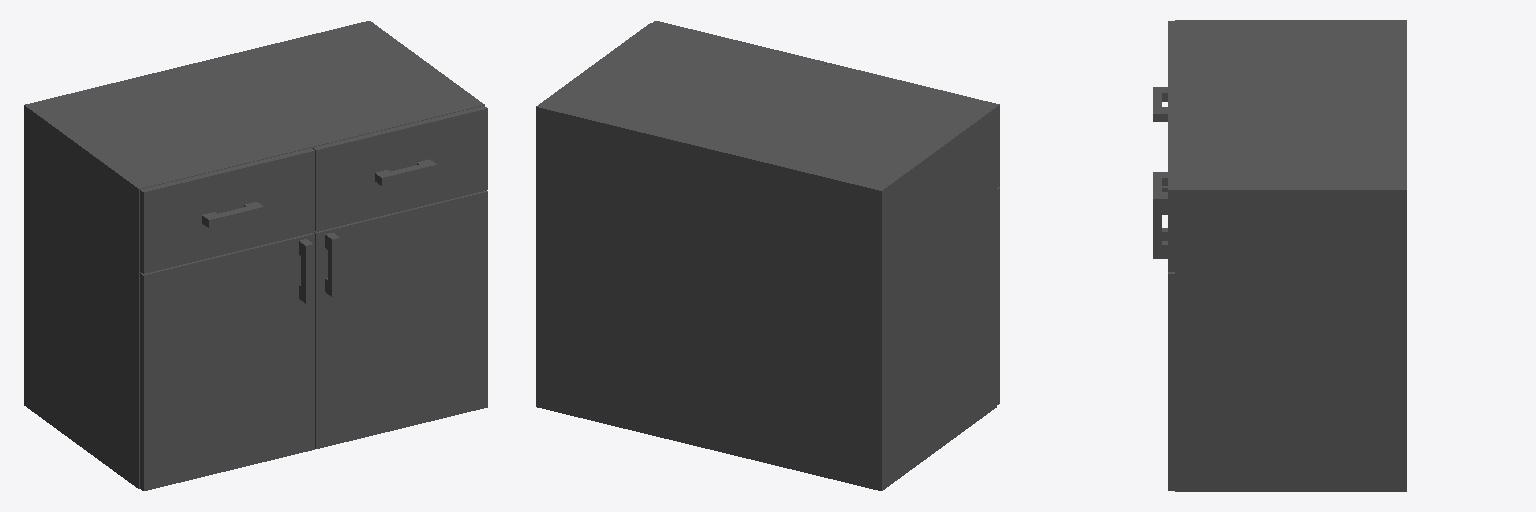
--- Render facts (derived) ---
The picture shows the robot from 3 angles, left to right: view 1: azimuth 30°, elevation 25°; view 2: azimuth 150°, elevation 25°; view 3: azimuth 270°, elevation 25°; orthographic projection.
Robot: Scene — 13 links, 12 joints (2 revolute, 2 prismatic, 8 fixed); root link world; default pose: every joint at zero.
Links seen in each view (by area): view 1: lower_left_cabinet_0.467_0.629_0.013_object_3_door_0_0, lower_right_cabinet_0.483_0.637_0.021_object_4_door_0_0, drawer_0.508_0.263_0.629_object_2_corpus, lower_left_cabinet_0.467_0.629_0.013_object_3_corpus, drawer_0.547_0.221_0.627_object_1_corpus, drawer_0.508_0.263_0.629_object_2_drawer_0_0, drawer_0.547_0.221_0.627_object_1_drawer_0_0; view 2: lower_left_cabinet_0.467_0.629_0.013_object_3_corpus, drawer_0.508_0.263_0.629_object_2_corpus, lower_right_cabinet_0.483_0.637_0.021_object_4_corpus, drawer_0.547_0.221_0.627_object_1_corpus, drawer_0.508_0.263_0.629_object_2_drawer_0_0, lower_left_cabinet_0.467_0.629_0.013_object_3_door_0_0; view 3: lower_right_cabinet_0.483_0.637_0.021_object_4_corpus, drawer_0.547_0.221_0.627_object_1_corpus, drawer_0.508_0.263_0.629_object_2_corpus, lower_right_cabinet_0.483_0.637_0.021_object_4_door_0_0, drawer_0.547_0.221_0.627_object_1_drawer_0_0, drawer_0.508_0.263_0.629_object_2_drawer_0_0.
Boxes of the visible links, x1,y1,x2,y2 form: lower_left_cabinet_0.467_0.629_0.013_object_3_door_0_0: [140, 233, 314, 490]; lower_right_cabinet_0.483_0.637_0.021_object_4_door_0_0: [314, 191, 487, 448]; drawer_0.508_0.263_0.629_object_2_corpus: [24, 63, 311, 271]; lower_left_cabinet_0.467_0.629_0.013_object_3_corpus: [24, 188, 140, 488]; drawer_0.547_0.221_0.627_object_1_corpus: [198, 21, 484, 148]; drawer_0.508_0.263_0.629_object_2_drawer_0_0: [140, 148, 314, 273]; drawer_0.547_0.221_0.627_object_1_drawer_0_0: [313, 106, 487, 231]; lower_left_cabinet_0.467_0.629_0.013_object_3_corpus: [709, 190, 996, 490]; drawer_0.508_0.263_0.629_object_2_corpus: [709, 65, 996, 273]; lower_right_cabinet_0.483_0.637_0.021_object_4_corpus: [536, 190, 708, 448]; drawer_0.547_0.221_0.627_object_1_corpus: [536, 23, 823, 231]; drawer_0.508_0.263_0.629_object_2_drawer_0_0: [826, 63, 999, 187]; lower_left_cabinet_0.467_0.629_0.013_object_3_door_0_0: [997, 187, 999, 404]; lower_right_cabinet_0.483_0.637_0.021_object_4_corpus: [1175, 273, 1406, 491]; drawer_0.547_0.221_0.627_object_1_corpus: [1175, 105, 1406, 272]; drawer_0.508_0.263_0.629_object_2_corpus: [1175, 20, 1406, 104]; lower_right_cabinet_0.483_0.637_0.021_object_4_door_0_0: [1153, 207, 1174, 490]; drawer_0.547_0.221_0.627_object_1_drawer_0_0: [1153, 106, 1174, 271]; drawer_0.508_0.263_0.629_object_2_drawer_0_0: [1153, 21, 1174, 121].
Size in the robot's own frame: 1.05 by 0.6664 by 0.8751 metres.
Geometry: primitives only (box / cylinder / sphere), no mesh files.

The robot description file, URDF, robot "Scene":
<?xml version='1.0' encoding='ASCII'?>
<robot name="Scene">
  <link name="drawer_0.508_0.263_0.629_object_2_corpus">
    <inertial>
      <origin xyz="0.0 0.0 0.0" rpy="0.0 -0.0 0.0"/>
      <mass value="0.019717234820461192"/>
      <inertia ixx="1.0" ixy="0.0" ixz="0.0" iyy="1.0" iyz="0.0" izz="1.0"/>
    </inertial>
    <visual name="drawer_0.508_0.263_0.629_object_2_back">
      <geometry>
        <box size="0.5272662835619217 0.02 0.2220240070010941"/>
      </geometry>
      <origin xyz="0.0 0.30420748274882914 0.11101200350054705" rpy="0.0 -0.0 0.0"/>
      <material name="drawer_0.508_0.263_0.629_object_2_back_main_color">
        <color rgba="0.4 0.4 0.4 1.0"/>
      </material>
    </visual>
    <visual name="drawer_0.508_0.263_0.629_object_2_left">
      <geometry>
        <box size="0.02 0.5884149654976583 0.2220240070010941"/>
      </geometry>
      <origin xyz="-0.25363314178096086 0.0 0.11101200350054705" rpy="0.0 -0.0 0.0"/>
      <material name="drawer_0.508_0.263_0.629_object_2_left_main_color">
        <color rgba="0.4 0.4 0.4 1.0"/>
      </material>
    </visual>
    <visual name="drawer_0.508_0.263_0.629_object_2_right">
      <geometry>
        <box size="0.02 0.5884149654976583 0.2220240070010941"/>
      </geometry>
      <origin xyz="0.25363314178096086 0.0 0.11101200350054705" rpy="0.0 -0.0 0.0"/>
      <material name="drawer_0.508_0.263_0.629_object_2_right_main_color">
        <color rgba="0.4 0.4 0.4 1.0"/>
      </material>
    </visual>
    <visual name="drawer_0.508_0.263_0.629_object_2_surface_0_0">
      <geometry>
        <box size="0.48726628356192175 0.5884149654976583 0.02"/>
      </geometry>
      <origin xyz="0.0 0.0 0.010000000000000018" rpy="0.0 -0.0 0.0"/>
      <material name="drawer_0.508_0.263_0.629_object_2_surface_0_0_main_color">
        <color rgba="0.4 0.4 0.4 1.0"/>
      </material>
    </visual>
    <visual name="drawer_0.508_0.263_0.629_object_2_top">
      <geometry>
        <box size="0.5272662835619217 0.6084149654976583 0.02"/>
      </geometry>
      <origin xyz="0.0 0.01 0.23202400700109407" rpy="0.0 -0.0 0.0"/>
      <material name="drawer_0.508_0.263_0.629_object_2_top_main_color">
        <color rgba="0.4 0.4 0.4 1.0"/>
      </material>
    </visual>
    <collision name="drawer_0.508_0.263_0.629_object_2_back">
      <geometry>
        <box size="0.5272662835619217 0.02 0.2220240070010941"/>
      </geometry>
      <origin xyz="0.0 0.30420748274882914 0.11101200350054705" rpy="0.0 -0.0 0.0"/>
    </collision>
    <collision name="drawer_0.508_0.263_0.629_object_2_left">
      <geometry>
        <box size="0.02 0.5884149654976583 0.2220240070010941"/>
      </geometry>
      <origin xyz="-0.25363314178096086 0.0 0.11101200350054705" rpy="0.0 -0.0 0.0"/>
    </collision>
    <collision name="drawer_0.508_0.263_0.629_object_2_right">
      <geometry>
        <box size="0.02 0.5884149654976583 0.2220240070010941"/>
      </geometry>
      <origin xyz="0.25363314178096086 0.0 0.11101200350054705" rpy="0.0 -0.0 0.0"/>
    </collision>
    <collision name="drawer_0.508_0.263_0.629_object_2_surface_0_0">
      <geometry>
        <box size="0.48726628356192175 0.5884149654976583 0.02"/>
      </geometry>
      <origin xyz="0.0 0.0 0.010000000000000018" rpy="0.0 -0.0 0.0"/>
    </collision>
    <collision name="drawer_0.508_0.263_0.629_object_2_top">
      <geometry>
        <box size="0.5272662835619217 0.6084149654976583 0.02"/>
      </geometry>
      <origin xyz="0.0 0.01 0.23202400700109407" rpy="0.0 -0.0 0.0"/>
    </collision>
  </link>
  <link name="drawer_0.508_0.263_0.629_object_2_drawer_0_0">
    <inertial>
      <origin xyz="0.0 0.0 0.0" rpy="0.0 -0.0 0.0"/>
      <mass value="0.09999999999999998"/>
      <inertia ixx="1.0" ixy="0.0" ixz="0.0" iyy="1.0" iyz="0.0" izz="1.0"/>
    </inertial>
    <visual name="drawer_0.508_0.263_0.629_object_2_drawer_0_0_board_0">
      <geometry>
        <box size="0.5232662835619217 0.02 0.23802400700109408"/>
      </geometry>
      <origin xyz="0.0 -0.01 0.0" rpy="0.0 -0.0 0.0"/>
      <material name="drawer_0.508_0.263_0.629_object_2_drawer_0_0_board_0_main_color">
        <color rgba="0.4 0.4 0.4 1.0"/>
      </material>
    </visual>
    <visual name="drawer_0.508_0.263_0.629_object_2_drawer_0_0_board_1">
      <geometry>
        <box size="0.46726628356192174 0.5225734689478925 0.005"/>
      </geometry>
      <origin xyz="0.0 0.26128673447394624 -0.09351200350054703" rpy="0.0 -0.0 0.0"/>
      <material name="drawer_0.508_0.263_0.629_object_2_drawer_0_0_board_1_main_color">
        <color rgba="0.4 0.4 0.4 1.0"/>
      </material>
    </visual>
    <visual name="drawer_0.508_0.263_0.629_object_2_drawer_0_0_board_2">
      <geometry>
        <box size="0.005 0.5225734689478925 0.19202400700109407"/>
      </geometry>
      <origin xyz="-0.23613314178096087 0.26128673447394624 0.0" rpy="0.0 -0.0 0.0"/>
      <material name="drawer_0.508_0.263_0.629_object_2_drawer_0_0_board_2_main_color">
        <color rgba="0.4 0.4 0.4 1.0"/>
      </material>
    </visual>
    <visual name="drawer_0.508_0.263_0.629_object_2_drawer_0_0_board_3">
      <geometry>
        <box size="0.005 0.5225734689478925 0.19202400700109407"/>
      </geometry>
      <origin xyz="0.23613314178096087 0.26128673447394624 0.0" rpy="0.0 -0.0 0.0"/>
      <material name="drawer_0.508_0.263_0.629_object_2_drawer_0_0_board_3_main_color">
        <color rgba="0.4 0.4 0.4 1.0"/>
      </material>
    </visual>
    <visual name="drawer_0.508_0.263_0.629_object_2_drawer_0_0_board_4">
      <geometry>
        <box size="0.47726628356192174 0.005 0.19202400700109407"/>
      </geometry>
      <origin xyz="0.0 0.5250734689478925 0.0" rpy="0.0 -0.0 0.0"/>
      <material name="drawer_0.508_0.263_0.629_object_2_drawer_0_0_board_4_main_color">
        <color rgba="0.4 0.4 0.4 1.0"/>
      </material>
    </visual>
    <visual name="drawer_0.508_0.263_0.629_object_2_drawer_0_0_handle_part_0">
      <geometry>
        <box size="0.024 0.1682 0.024"/>
      </geometry>
      <origin xyz="-9.748438587302075e-35 -0.046 1.5920408388915591e-18" rpy="3.141592653589793 6.123233995736766e-17 1.5707963267948966"/>
      <material name="drawer_0.508_0.263_0.629_object_2_drawer_0_0_handle_part_0_main_color">
        <color rgba="0.4 0.4 0.4 1.0"/>
      </material>
    </visual>
    <visual name="drawer_0.508_0.263_0.629_object_2_drawer_0_0_handle_part_1">
      <geometry>
        <box size="0.013999999999999999 0.04 0.024"/>
      </geometry>
      <origin xyz="-0.06409999999999999 -0.027 -7.421359602832959e-18" rpy="3.141592653589793 6.123233995736766e-17 1.5707963267948966"/>
      <material name="drawer_0.508_0.263_0.629_object_2_drawer_0_0_handle_part_1_main_color">
        <color rgba="0.4 0.4 0.4 1.0"/>
      </material>
    </visual>
    <visual name="drawer_0.508_0.263_0.629_object_2_drawer_0_0_handle_part_2">
      <geometry>
        <box size="0.013999999999999999 0.04 0.024"/>
      </geometry>
      <origin xyz="0.06409999999999999 -0.027 8.278612362236106e-18" rpy="3.141592653589793 6.123233995736766e-17 1.5707963267948966"/>
      <material name="drawer_0.508_0.263_0.629_object_2_drawer_0_0_handle_part_2_main_color">
        <color rgba="0.4 0.4 0.4 1.0"/>
      </material>
    </visual>
    <collision name="drawer_0.508_0.263_0.629_object_2_drawer_0_0_board_0">
      <geometry>
        <box size="0.5232662835619217 0.02 0.23802400700109408"/>
      </geometry>
      <origin xyz="0.0 -0.01 0.0" rpy="0.0 -0.0 0.0"/>
    </collision>
    <collision name="drawer_0.508_0.263_0.629_object_2_drawer_0_0_board_1">
      <geometry>
        <box size="0.46726628356192174 0.5225734689478925 0.005"/>
      </geometry>
      <origin xyz="0.0 0.26128673447394624 -0.09351200350054703" rpy="0.0 -0.0 0.0"/>
    </collision>
    <collision name="drawer_0.508_0.263_0.629_object_2_drawer_0_0_board_2">
      <geometry>
        <box size="0.005 0.5225734689478925 0.19202400700109407"/>
      </geometry>
      <origin xyz="-0.23613314178096087 0.26128673447394624 0.0" rpy="0.0 -0.0 0.0"/>
    </collision>
    <collision name="drawer_0.508_0.263_0.629_object_2_drawer_0_0_board_3">
      <geometry>
        <box size="0.005 0.5225734689478925 0.19202400700109407"/>
      </geometry>
      <origin xyz="0.23613314178096087 0.26128673447394624 0.0" rpy="0.0 -0.0 0.0"/>
    </collision>
    <collision name="drawer_0.508_0.263_0.629_object_2_drawer_0_0_board_4">
      <geometry>
        <box size="0.47726628356192174 0.005 0.19202400700109407"/>
      </geometry>
      <origin xyz="0.0 0.5250734689478925 0.0" rpy="0.0 -0.0 0.0"/>
    </collision>
    <collision name="drawer_0.508_0.263_0.629_object_2_drawer_0_0_handle_part_0">
      <geometry>
        <box size="0.024 0.1682 0.024"/>
      </geometry>
      <origin xyz="-9.748438587302075e-35 -0.046 1.5920408388915591e-18" rpy="3.141592653589793 6.123233995736766e-17 1.5707963267948966"/>
    </collision>
    <collision name="drawer_0.508_0.263_0.629_object_2_drawer_0_0_handle_part_1">
      <geometry>
        <box size="0.013999999999999999 0.04 0.024"/>
      </geometry>
      <origin xyz="-0.06409999999999999 -0.027 -7.421359602832959e-18" rpy="3.141592653589793 6.123233995736766e-17 1.5707963267948966"/>
    </collision>
    <collision name="drawer_0.508_0.263_0.629_object_2_drawer_0_0_handle_part_2">
      <geometry>
        <box size="0.013999999999999999 0.04 0.024"/>
      </geometry>
      <origin xyz="0.06409999999999999 -0.027 8.278612362236106e-18" rpy="3.141592653589793 6.123233995736766e-17 1.5707963267948966"/>
    </collision>
  </link>
  <link name="drawer_0.547_0.221_0.627_object_1_corpus">
    <inertial>
      <origin xyz="0.0 0.0 0.0" rpy="0.0 -0.0 0.0"/>
      <mass value="0.019717234820461192"/>
      <inertia ixx="1.0" ixy="0.0" ixz="0.0" iyy="1.0" iyz="0.0" izz="1.0"/>
    </inertial>
    <visual name="drawer_0.547_0.221_0.627_object_1_back">
      <geometry>
        <box size="0.5272662835619217 0.02 0.2220240070010941"/>
      </geometry>
      <origin xyz="0.0 0.30420748274882914 0.11101200350054705" rpy="0.0 -0.0 0.0"/>
      <material name="drawer_0.547_0.221_0.627_object_1_back_main_color">
        <color rgba="0.4 0.4 0.4 1.0"/>
      </material>
    </visual>
    <visual name="drawer_0.547_0.221_0.627_object_1_left">
      <geometry>
        <box size="0.02 0.5884149654976583 0.2220240070010941"/>
      </geometry>
      <origin xyz="-0.25363314178096086 0.0 0.11101200350054705" rpy="0.0 -0.0 0.0"/>
      <material name="drawer_0.547_0.221_0.627_object_1_left_main_color">
        <color rgba="0.4 0.4 0.4 1.0"/>
      </material>
    </visual>
    <visual name="drawer_0.547_0.221_0.627_object_1_right">
      <geometry>
        <box size="0.02 0.5884149654976583 0.2220240070010941"/>
      </geometry>
      <origin xyz="0.25363314178096086 0.0 0.11101200350054705" rpy="0.0 -0.0 0.0"/>
      <material name="drawer_0.547_0.221_0.627_object_1_right_main_color">
        <color rgba="0.4 0.4 0.4 1.0"/>
      </material>
    </visual>
    <visual name="drawer_0.547_0.221_0.627_object_1_surface_0_0">
      <geometry>
        <box size="0.48726628356192175 0.5884149654976583 0.02"/>
      </geometry>
      <origin xyz="0.0 0.0 0.010000000000000018" rpy="0.0 -0.0 0.0"/>
      <material name="drawer_0.547_0.221_0.627_object_1_surface_0_0_main_color">
        <color rgba="0.4 0.4 0.4 1.0"/>
      </material>
    </visual>
    <visual name="drawer_0.547_0.221_0.627_object_1_top">
      <geometry>
        <box size="0.5272662835619217 0.6084149654976583 0.02"/>
      </geometry>
      <origin xyz="0.0 0.01 0.23202400700109407" rpy="0.0 -0.0 0.0"/>
      <material name="drawer_0.547_0.221_0.627_object_1_top_main_color">
        <color rgba="0.4 0.4 0.4 1.0"/>
      </material>
    </visual>
    <collision name="drawer_0.547_0.221_0.627_object_1_back">
      <geometry>
        <box size="0.5272662835619217 0.02 0.2220240070010941"/>
      </geometry>
      <origin xyz="0.0 0.30420748274882914 0.11101200350054705" rpy="0.0 -0.0 0.0"/>
    </collision>
    <collision name="drawer_0.547_0.221_0.627_object_1_left">
      <geometry>
        <box size="0.02 0.5884149654976583 0.2220240070010941"/>
      </geometry>
      <origin xyz="-0.25363314178096086 0.0 0.11101200350054705" rpy="0.0 -0.0 0.0"/>
    </collision>
    <collision name="drawer_0.547_0.221_0.627_object_1_right">
      <geometry>
        <box size="0.02 0.5884149654976583 0.2220240070010941"/>
      </geometry>
      <origin xyz="0.25363314178096086 0.0 0.11101200350054705" rpy="0.0 -0.0 0.0"/>
    </collision>
    <collision name="drawer_0.547_0.221_0.627_object_1_surface_0_0">
      <geometry>
        <box size="0.48726628356192175 0.5884149654976583 0.02"/>
      </geometry>
      <origin xyz="0.0 0.0 0.010000000000000018" rpy="0.0 -0.0 0.0"/>
    </collision>
    <collision name="drawer_0.547_0.221_0.627_object_1_top">
      <geometry>
        <box size="0.5272662835619217 0.6084149654976583 0.02"/>
      </geometry>
      <origin xyz="0.0 0.01 0.23202400700109407" rpy="0.0 -0.0 0.0"/>
    </collision>
  </link>
  <link name="drawer_0.547_0.221_0.627_object_1_drawer_0_0">
    <inertial>
      <origin xyz="0.0 0.0 0.0" rpy="0.0 -0.0 0.0"/>
      <mass value="0.09999999999999998"/>
      <inertia ixx="1.0" ixy="0.0" ixz="0.0" iyy="1.0" iyz="0.0" izz="1.0"/>
    </inertial>
    <visual name="drawer_0.547_0.221_0.627_object_1_drawer_0_0_board_0">
      <geometry>
        <box size="0.5232662835619217 0.02 0.23802400700109408"/>
      </geometry>
      <origin xyz="0.0 -0.01 0.0" rpy="0.0 -0.0 0.0"/>
      <material name="drawer_0.547_0.221_0.627_object_1_drawer_0_0_board_0_main_color">
        <color rgba="0.4 0.4 0.4 1.0"/>
      </material>
    </visual>
    <visual name="drawer_0.547_0.221_0.627_object_1_drawer_0_0_board_1">
      <geometry>
        <box size="0.46726628356192174 0.5225734689478925 0.005"/>
      </geometry>
      <origin xyz="0.0 0.26128673447394624 -0.09351200350054703" rpy="0.0 -0.0 0.0"/>
      <material name="drawer_0.547_0.221_0.627_object_1_drawer_0_0_board_1_main_color">
        <color rgba="0.4 0.4 0.4 1.0"/>
      </material>
    </visual>
    <visual name="drawer_0.547_0.221_0.627_object_1_drawer_0_0_board_2">
      <geometry>
        <box size="0.005 0.5225734689478925 0.19202400700109407"/>
      </geometry>
      <origin xyz="-0.23613314178096087 0.26128673447394624 0.0" rpy="0.0 -0.0 0.0"/>
      <material name="drawer_0.547_0.221_0.627_object_1_drawer_0_0_board_2_main_color">
        <color rgba="0.4 0.4 0.4 1.0"/>
      </material>
    </visual>
    <visual name="drawer_0.547_0.221_0.627_object_1_drawer_0_0_board_3">
      <geometry>
        <box size="0.005 0.5225734689478925 0.19202400700109407"/>
      </geometry>
      <origin xyz="0.23613314178096087 0.26128673447394624 0.0" rpy="0.0 -0.0 0.0"/>
      <material name="drawer_0.547_0.221_0.627_object_1_drawer_0_0_board_3_main_color">
        <color rgba="0.4 0.4 0.4 1.0"/>
      </material>
    </visual>
    <visual name="drawer_0.547_0.221_0.627_object_1_drawer_0_0_board_4">
      <geometry>
        <box size="0.47726628356192174 0.005 0.19202400700109407"/>
      </geometry>
      <origin xyz="0.0 0.5250734689478925 0.0" rpy="0.0 -0.0 0.0"/>
      <material name="drawer_0.547_0.221_0.627_object_1_drawer_0_0_board_4_main_color">
        <color rgba="0.4 0.4 0.4 1.0"/>
      </material>
    </visual>
    <visual name="drawer_0.547_0.221_0.627_object_1_drawer_0_0_handle_part_0">
      <geometry>
        <box size="0.024 0.1682 0.024"/>
      </geometry>
      <origin xyz="-9.748438587302075e-35 -0.046 1.5920408388915591e-18" rpy="3.141592653589793 6.123233995736766e-17 1.5707963267948966"/>
      <material name="drawer_0.547_0.221_0.627_object_1_drawer_0_0_handle_part_0_main_color">
        <color rgba="0.4 0.4 0.4 1.0"/>
      </material>
    </visual>
    <visual name="drawer_0.547_0.221_0.627_object_1_drawer_0_0_handle_part_1">
      <geometry>
        <box size="0.013999999999999999 0.04 0.024"/>
      </geometry>
      <origin xyz="-0.06409999999999999 -0.027 -7.421359602832959e-18" rpy="3.141592653589793 6.123233995736766e-17 1.5707963267948966"/>
      <material name="drawer_0.547_0.221_0.627_object_1_drawer_0_0_handle_part_1_main_color">
        <color rgba="0.4 0.4 0.4 1.0"/>
      </material>
    </visual>
    <visual name="drawer_0.547_0.221_0.627_object_1_drawer_0_0_handle_part_2">
      <geometry>
        <box size="0.013999999999999999 0.04 0.024"/>
      </geometry>
      <origin xyz="0.06409999999999999 -0.027 8.278612362236106e-18" rpy="3.141592653589793 6.123233995736766e-17 1.5707963267948966"/>
      <material name="drawer_0.547_0.221_0.627_object_1_drawer_0_0_handle_part_2_main_color">
        <color rgba="0.4 0.4 0.4 1.0"/>
      </material>
    </visual>
    <collision name="drawer_0.547_0.221_0.627_object_1_drawer_0_0_board_0">
      <geometry>
        <box size="0.5232662835619217 0.02 0.23802400700109408"/>
      </geometry>
      <origin xyz="0.0 -0.01 0.0" rpy="0.0 -0.0 0.0"/>
    </collision>
    <collision name="drawer_0.547_0.221_0.627_object_1_drawer_0_0_board_1">
      <geometry>
        <box size="0.46726628356192174 0.5225734689478925 0.005"/>
      </geometry>
      <origin xyz="0.0 0.26128673447394624 -0.09351200350054703" rpy="0.0 -0.0 0.0"/>
    </collision>
    <collision name="drawer_0.547_0.221_0.627_object_1_drawer_0_0_board_2">
      <geometry>
        <box size="0.005 0.5225734689478925 0.19202400700109407"/>
      </geometry>
      <origin xyz="-0.23613314178096087 0.26128673447394624 0.0" rpy="0.0 -0.0 0.0"/>
    </collision>
    <collision name="drawer_0.547_0.221_0.627_object_1_drawer_0_0_board_3">
      <geometry>
        <box size="0.005 0.5225734689478925 0.19202400700109407"/>
      </geometry>
      <origin xyz="0.23613314178096087 0.26128673447394624 0.0" rpy="0.0 -0.0 0.0"/>
    </collision>
    <collision name="drawer_0.547_0.221_0.627_object_1_drawer_0_0_board_4">
      <geometry>
        <box size="0.47726628356192174 0.005 0.19202400700109407"/>
      </geometry>
      <origin xyz="0.0 0.5250734689478925 0.0" rpy="0.0 -0.0 0.0"/>
    </collision>
    <collision name="drawer_0.547_0.221_0.627_object_1_drawer_0_0_handle_part_0">
      <geometry>
        <box size="0.024 0.1682 0.024"/>
      </geometry>
      <origin xyz="-9.748438587302075e-35 -0.046 1.5920408388915591e-18" rpy="3.141592653589793 6.123233995736766e-17 1.5707963267948966"/>
    </collision>
    <collision name="drawer_0.547_0.221_0.627_object_1_drawer_0_0_handle_part_1">
      <geometry>
        <box size="0.013999999999999999 0.04 0.024"/>
      </geometry>
      <origin xyz="-0.06409999999999999 -0.027 -7.421359602832959e-18" rpy="3.141592653589793 6.123233995736766e-17 1.5707963267948966"/>
    </collision>
    <collision name="drawer_0.547_0.221_0.627_object_1_drawer_0_0_handle_part_2">
      <geometry>
        <box size="0.013999999999999999 0.04 0.024"/>
      </geometry>
      <origin xyz="0.06409999999999999 -0.027 8.278612362236106e-18" rpy="3.141592653589793 6.123233995736766e-17 1.5707963267948966"/>
    </collision>
  </link>
  <link name="lower_left_cabinet_0.467_0.629_0.013_object_3_corpus">
    <inertial>
      <origin xyz="0.0 0.0 0.0" rpy="0.0 -0.0 0.0"/>
      <mass value="0.03591369357874641"/>
      <inertia ixx="1.0" ixy="0.0" ixz="0.0" iyy="1.0" iyz="0.0" izz="1.0"/>
    </inertial>
    <visual name="lower_left_cabinet_0.467_0.629_0.013_object_3_back">
      <geometry>
        <box size="0.5272662835619217 0.02 0.6131202053881628"/>
      </geometry>
      <origin xyz="0.0 0.30420748274882914 0.3065601026940814" rpy="0.0 -0.0 0.0"/>
      <material name="lower_left_cabinet_0.467_0.629_0.013_object_3_back_main_color">
        <color rgba="0.4 0.4 0.4 1.0"/>
      </material>
    </visual>
    <visual name="lower_left_cabinet_0.467_0.629_0.013_object_3_left">
      <geometry>
        <box size="0.02 0.5884149654976583 0.6131202053881628"/>
      </geometry>
      <origin xyz="-0.25363314178096086 0.0 0.3065601026940814" rpy="0.0 -0.0 0.0"/>
      <material name="lower_left_cabinet_0.467_0.629_0.013_object_3_left_main_color">
        <color rgba="0.4 0.4 0.4 1.0"/>
      </material>
    </visual>
    <visual name="lower_left_cabinet_0.467_0.629_0.013_object_3_right">
      <geometry>
        <box size="0.02 0.5884149654976583 0.6131202053881628"/>
      </geometry>
      <origin xyz="0.25363314178096086 0.0 0.3065601026940814" rpy="0.0 -0.0 0.0"/>
      <material name="lower_left_cabinet_0.467_0.629_0.013_object_3_right_main_color">
        <color rgba="0.4 0.4 0.4 1.0"/>
      </material>
    </visual>
    <visual name="lower_left_cabinet_0.467_0.629_0.013_object_3_shelf_0_0_0">
      <geometry>
        <box size="0.48726628356192175 0.5884149654976583 0.01"/>
      </geometry>
      <origin xyz="0.0 0.0 0.3165601026940814" rpy="0.0 -0.0 0.0"/>
      <material name="lower_left_cabinet_0.467_0.629_0.013_object_3_shelf_0_0_0_main_color">
        <color rgba="0.4 0.4 0.4 1.0"/>
      </material>
    </visual>
    <visual name="lower_left_cabinet_0.467_0.629_0.013_object_3_surface_0_0">
      <geometry>
        <box size="0.48726628356192175 0.5884149654976583 0.02"/>
      </geometry>
      <origin xyz="0.0 0.0 0.010000000000000018" rpy="0.0 -0.0 0.0"/>
      <material name="lower_left_cabinet_0.467_0.629_0.013_object_3_surface_0_0_main_color">
        <color rgba="0.4 0.4 0.4 1.0"/>
      </material>
    </visual>
    <visual name="lower_left_cabinet_0.467_0.629_0.013_object_3_top">
      <geometry>
        <box size="0.5272662835619217 0.6084149654976583 0.02"/>
      </geometry>
      <origin xyz="0.0 0.01 0.6231202053881628" rpy="0.0 -0.0 0.0"/>
      <material name="lower_left_cabinet_0.467_0.629_0.013_object_3_top_main_color">
        <color rgba="0.4 0.4 0.4 1.0"/>
      </material>
    </visual>
    <collision name="lower_left_cabinet_0.467_0.629_0.013_object_3_back">
      <geometry>
        <box size="0.5272662835619217 0.02 0.6131202053881628"/>
      </geometry>
      <origin xyz="0.0 0.30420748274882914 0.3065601026940814" rpy="0.0 -0.0 0.0"/>
    </collision>
    <collision name="lower_left_cabinet_0.467_0.629_0.013_object_3_left">
      <geometry>
        <box size="0.02 0.5884149654976583 0.6131202053881628"/>
      </geometry>
      <origin xyz="-0.25363314178096086 0.0 0.3065601026940814" rpy="0.0 -0.0 0.0"/>
    </collision>
    <collision name="lower_left_cabinet_0.467_0.629_0.013_object_3_right">
      <geometry>
        <box size="0.02 0.5884149654976583 0.6131202053881628"/>
      </geometry>
      <origin xyz="0.25363314178096086 0.0 0.3065601026940814" rpy="0.0 -0.0 0.0"/>
    </collision>
    <collision name="lower_left_cabinet_0.467_0.629_0.013_object_3_shelf_0_0_0">
      <geometry>
        <box size="0.48726628356192175 0.5884149654976583 0.01"/>
      </geometry>
      <origin xyz="0.0 0.0 0.3165601026940814" rpy="0.0 -0.0 0.0"/>
    </collision>
    <collision name="lower_left_cabinet_0.467_0.629_0.013_object_3_surface_0_0">
      <geometry>
        <box size="0.48726628356192175 0.5884149654976583 0.02"/>
      </geometry>
      <origin xyz="0.0 0.0 0.010000000000000018" rpy="0.0 -0.0 0.0"/>
    </collision>
    <collision name="lower_left_cabinet_0.467_0.629_0.013_object_3_top">
      <geometry>
        <box size="0.5272662835619217 0.6084149654976583 0.02"/>
      </geometry>
      <origin xyz="0.0 0.01 0.6231202053881628" rpy="0.0 -0.0 0.0"/>
    </collision>
  </link>
  <link name="lower_left_cabinet_0.467_0.629_0.013_object_3_door_0_0">
    <inertial>
      <origin xyz="0.0 0.0 0.0" rpy="0.0 -0.0 0.0"/>
      <mass value="0.1"/>
      <inertia ixx="1.0" ixy="0.0" ixz="0.0" iyy="1.0" iyz="0.0" izz="1.0"/>
    </inertial>
    <visual name="lower_left_cabinet_0.467_0.629_0.013_object_3_door_0_0_door">
      <geometry>
        <box size="0.5232662835619217 0.02 0.6291202053881628"/>
      </geometry>
      <origin xyz="0.26163314178096087 0.01 0.0" rpy="0.0 -0.0 0.0"/>
      <material name="lower_left_cabinet_0.467_0.629_0.013_object_3_door_0_0_door_main_color">
        <color rgba="0.4 0.4 0.4 1.0"/>
      </material>
    </visual>
    <visual name="lower_left_cabinet_0.467_0.629_0.013_object_3_door_0_0_handle_part_0">
      <geometry>
        <box size="0.024 0.1682 0.024"/>
      </geometry>
      <origin xyz="0.48490296938382565 -0.026 0.22159207188585697" rpy="1.5707963267948966 -0.0 1.5707963267948966"/>
      <material name="lower_left_cabinet_0.467_0.629_0.013_object_3_door_0_0_handle_part_0_main_color">
        <color rgba="0.4 0.4 0.4 1.0"/>
      </material>
    </visual>
    <visual name="lower_left_cabinet_0.467_0.629_0.013_object_3_door_0_0_handle_part_1">
      <geometry>
        <box size="0.013999999999999999 0.04 0.024"/>
      </geometry>
      <origin xyz="0.48490296938382565 -0.006999999999999999 0.15749207188585698" rpy="1.5707963267948966 -0.0 1.5707963267948966"/>
      <material name="lower_left_cabinet_0.467_0.629_0.013_object_3_door_0_0_handle_part_1_main_color">
        <color rgba="0.4 0.4 0.4 1.0"/>
      </material>
    </visual>
    <visual name="lower_left_cabinet_0.467_0.629_0.013_object_3_door_0_0_handle_part_2">
      <geometry>
        <box size="0.013999999999999999 0.04 0.024"/>
      </geometry>
      <origin xyz="0.48490296938382565 -0.006999999999999999 0.285692071885857" rpy="1.5707963267948966 -0.0 1.5707963267948966"/>
      <material name="lower_left_cabinet_0.467_0.629_0.013_object_3_door_0_0_handle_part_2_main_color">
        <color rgba="0.4 0.4 0.4 1.0"/>
      </material>
    </visual>
    <collision name="lower_left_cabinet_0.467_0.629_0.013_object_3_door_0_0_door">
      <geometry>
        <box size="0.5232662835619217 0.02 0.6291202053881628"/>
      </geometry>
      <origin xyz="0.26163314178096087 0.01 0.0" rpy="0.0 -0.0 0.0"/>
    </collision>
    <collision name="lower_left_cabinet_0.467_0.629_0.013_object_3_door_0_0_handle_part_0">
      <geometry>
        <box size="0.024 0.1682 0.024"/>
      </geometry>
      <origin xyz="0.48490296938382565 -0.026 0.22159207188585697" rpy="1.5707963267948966 -0.0 1.5707963267948966"/>
    </collision>
    <collision name="lower_left_cabinet_0.467_0.629_0.013_object_3_door_0_0_handle_part_1">
      <geometry>
        <box size="0.013999999999999999 0.04 0.024"/>
      </geometry>
      <origin xyz="0.48490296938382565 -0.006999999999999999 0.15749207188585698" rpy="1.5707963267948966 -0.0 1.5707963267948966"/>
    </collision>
    <collision name="lower_left_cabinet_0.467_0.629_0.013_object_3_door_0_0_handle_part_2">
      <geometry>
        <box size="0.013999999999999999 0.04 0.024"/>
      </geometry>
      <origin xyz="0.48490296938382565 -0.006999999999999999 0.285692071885857" rpy="1.5707963267948966 -0.0 1.5707963267948966"/>
    </collision>
  </link>
  <link name="lower_right_cabinet_0.483_0.637_0.021_object_4_corpus">
    <inertial>
      <origin xyz="0.0 0.0 0.0" rpy="0.0 -0.0 0.0"/>
      <mass value="0.03591369357874641"/>
      <inertia ixx="1.0" ixy="0.0" ixz="0.0" iyy="1.0" iyz="0.0" izz="1.0"/>
    </inertial>
    <visual name="lower_right_cabinet_0.483_0.637_0.021_object_4_back">
      <geometry>
        <box size="0.5272662835619217 0.02 0.6131202053881628"/>
      </geometry>
      <origin xyz="0.0 0.30420748274882914 0.3065601026940814" rpy="0.0 -0.0 0.0"/>
      <material name="lower_right_cabinet_0.483_0.637_0.021_object_4_back_main_color">
        <color rgba="0.4 0.4 0.4 1.0"/>
      </material>
    </visual>
    <visual name="lower_right_cabinet_0.483_0.637_0.021_object_4_left">
      <geometry>
        <box size="0.02 0.5884149654976583 0.6131202053881628"/>
      </geometry>
      <origin xyz="-0.25363314178096086 0.0 0.3065601026940814" rpy="0.0 -0.0 0.0"/>
      <material name="lower_right_cabinet_0.483_0.637_0.021_object_4_left_main_color">
        <color rgba="0.4 0.4 0.4 1.0"/>
      </material>
    </visual>
    <visual name="lower_right_cabinet_0.483_0.637_0.021_object_4_right">
      <geometry>
        <box size="0.02 0.5884149654976583 0.6131202053881628"/>
      </geometry>
      <origin xyz="0.25363314178096086 0.0 0.3065601026940814" rpy="0.0 -0.0 0.0"/>
      <material name="lower_right_cabinet_0.483_0.637_0.021_object_4_right_main_color">
        <color rgba="0.4 0.4 0.4 1.0"/>
      </material>
    </visual>
    <visual name="lower_right_cabinet_0.483_0.637_0.021_object_4_shelf_0_0_0">
      <geometry>
        <box size="0.48726628356192175 0.5884149654976583 0.01"/>
      </geometry>
      <origin xyz="0.0 0.0 0.3165601026940814" rpy="0.0 -0.0 0.0"/>
      <material name="lower_right_cabinet_0.483_0.637_0.021_object_4_shelf_0_0_0_main_color">
        <color rgba="0.4 0.4 0.4 1.0"/>
      </material>
    </visual>
    <visual name="lower_right_cabinet_0.483_0.637_0.021_object_4_surface_0_0">
      <geometry>
        <box size="0.48726628356192175 0.5884149654976583 0.02"/>
      </geometry>
      <origin xyz="0.0 0.0 0.010000000000000018" rpy="0.0 -0.0 0.0"/>
      <material name="lower_right_cabinet_0.483_0.637_0.021_object_4_surface_0_0_main_color">
        <color rgba="0.4 0.4 0.4 1.0"/>
      </material>
    </visual>
    <visual name="lower_right_cabinet_0.483_0.637_0.021_object_4_top">
      <geometry>
        <box size="0.5272662835619217 0.6084149654976583 0.02"/>
      </geometry>
      <origin xyz="0.0 0.01 0.6231202053881628" rpy="0.0 -0.0 0.0"/>
      <material name="lower_right_cabinet_0.483_0.637_0.021_object_4_top_main_color">
        <color rgba="0.4 0.4 0.4 1.0"/>
      </material>
    </visual>
    <collision name="lower_right_cabinet_0.483_0.637_0.021_object_4_back">
      <geometry>
        <box size="0.5272662835619217 0.02 0.6131202053881628"/>
      </geometry>
      <origin xyz="0.0 0.30420748274882914 0.3065601026940814" rpy="0.0 -0.0 0.0"/>
    </collision>
    <collision name="lower_right_cabinet_0.483_0.637_0.021_object_4_left">
      <geometry>
        <box size="0.02 0.5884149654976583 0.6131202053881628"/>
      </geometry>
      <origin xyz="-0.25363314178096086 0.0 0.3065601026940814" rpy="0.0 -0.0 0.0"/>
    </collision>
    <collision name="lower_right_cabinet_0.483_0.637_0.021_object_4_right">
      <geometry>
        <box size="0.02 0.5884149654976583 0.6131202053881628"/>
      </geometry>
      <origin xyz="0.25363314178096086 0.0 0.3065601026940814" rpy="0.0 -0.0 0.0"/>
    </collision>
    <collision name="lower_right_cabinet_0.483_0.637_0.021_object_4_shelf_0_0_0">
      <geometry>
        <box size="0.48726628356192175 0.5884149654976583 0.01"/>
      </geometry>
      <origin xyz="0.0 0.0 0.3165601026940814" rpy="0.0 -0.0 0.0"/>
    </collision>
    <collision name="lower_right_cabinet_0.483_0.637_0.021_object_4_surface_0_0">
      <geometry>
        <box size="0.48726628356192175 0.5884149654976583 0.02"/>
      </geometry>
      <origin xyz="0.0 0.0 0.010000000000000018" rpy="0.0 -0.0 0.0"/>
    </collision>
    <collision name="lower_right_cabinet_0.483_0.637_0.021_object_4_top">
      <geometry>
        <box size="0.5272662835619217 0.6084149654976583 0.02"/>
      </geometry>
      <origin xyz="0.0 0.01 0.6231202053881628" rpy="0.0 -0.0 0.0"/>
    </collision>
  </link>
  <link name="lower_right_cabinet_0.483_0.637_0.021_object_4_door_0_0">
    <inertial>
      <origin xyz="0.0 0.0 0.0" rpy="0.0 -0.0 0.0"/>
      <mass value="0.1"/>
      <inertia ixx="1.0" ixy="0.0" ixz="0.0" iyy="1.0" iyz="0.0" izz="1.0"/>
    </inertial>
    <visual name="lower_right_cabinet_0.483_0.637_0.021_object_4_door_0_0_door">
      <geometry>
        <box size="0.5232662835619217 0.02 0.6291202053881628"/>
      </geometry>
      <origin xyz="-0.26163314178096087 0.01 0.0" rpy="0.0 -0.0 0.0"/>
      <material name="lower_right_cabinet_0.483_0.637_0.021_object_4_door_0_0_door_main_color">
        <color rgba="0.4 0.4 0.4 1.0"/>
      </material>
    </visual>
    <visual name="lower_right_cabinet_0.483_0.637_0.021_object_4_door_0_0_handle_part_0">
      <geometry>
        <box size="0.024 0.1682 0.024"/>
      </geometry>
      <origin xyz="-0.48490296938382565 -0.026 0.22159207188585697" rpy="1.5707963267948966 -0.0 1.5707963267948966"/>
      <material name="lower_right_cabinet_0.483_0.637_0.021_object_4_door_0_0_handle_part_0_main_color">
        <color rgba="0.4 0.4 0.4 1.0"/>
      </material>
    </visual>
    <visual name="lower_right_cabinet_0.483_0.637_0.021_object_4_door_0_0_handle_part_1">
      <geometry>
        <box size="0.013999999999999999 0.04 0.024"/>
      </geometry>
      <origin xyz="-0.48490296938382565 -0.006999999999999999 0.15749207188585698" rpy="1.5707963267948966 -0.0 1.5707963267948966"/>
      <material name="lower_right_cabinet_0.483_0.637_0.021_object_4_door_0_0_handle_part_1_main_color">
        <color rgba="0.4 0.4 0.4 1.0"/>
      </material>
    </visual>
    <visual name="lower_right_cabinet_0.483_0.637_0.021_object_4_door_0_0_handle_part_2">
      <geometry>
        <box size="0.013999999999999999 0.04 0.024"/>
      </geometry>
      <origin xyz="-0.48490296938382565 -0.006999999999999999 0.285692071885857" rpy="1.5707963267948966 -0.0 1.5707963267948966"/>
      <material name="lower_right_cabinet_0.483_0.637_0.021_object_4_door_0_0_handle_part_2_main_color">
        <color rgba="0.4 0.4 0.4 1.0"/>
      </material>
    </visual>
    <collision name="lower_right_cabinet_0.483_0.637_0.021_object_4_door_0_0_door">
      <geometry>
        <box size="0.5232662835619217 0.02 0.6291202053881628"/>
      </geometry>
      <origin xyz="-0.26163314178096087 0.01 0.0" rpy="0.0 -0.0 0.0"/>
    </collision>
    <collision name="lower_right_cabinet_0.483_0.637_0.021_object_4_door_0_0_handle_part_0">
      <geometry>
        <box size="0.024 0.1682 0.024"/>
      </geometry>
      <origin xyz="-0.48490296938382565 -0.026 0.22159207188585697" rpy="1.5707963267948966 -0.0 1.5707963267948966"/>
    </collision>
    <collision name="lower_right_cabinet_0.483_0.637_0.021_object_4_door_0_0_handle_part_1">
      <geometry>
        <box size="0.013999999999999999 0.04 0.024"/>
      </geometry>
      <origin xyz="-0.48490296938382565 -0.006999999999999999 0.15749207188585698" rpy="1.5707963267948966 -0.0 1.5707963267948966"/>
    </collision>
    <collision name="lower_right_cabinet_0.483_0.637_0.021_object_4_door_0_0_handle_part_2">
      <geometry>
        <box size="0.013999999999999999 0.04 0.024"/>
      </geometry>
      <origin xyz="-0.48490296938382565 -0.006999999999999999 0.285692071885857" rpy="1.5707963267948966 -0.0 1.5707963267948966"/>
    </collision>
  </link>
  <link name="world"/>
  <link name="drawer_0.508_0.263_0.629_object_2"/>
  <link name="drawer_0.547_0.221_0.627_object_1"/>
  <link name="lower_left_cabinet_0.467_0.629_0.013_object_3"/>
  <link name="lower_right_cabinet_0.483_0.637_0.021_object_4"/>
  <joint name="drawer_0.508_0.263_0.629_object_2_world_fixed_joint" type="fixed">
    <parent link="world"/>
    <child link="drawer_0.508_0.263_0.629_object_2"/>
    <origin xyz="0.0 0.0 0.0" rpy="0.0 -0.0 0.0"/>
  </joint>
  <joint name="drawer_0.508_0.263_0.629_object_2_corpus_to_drawer_0_0" type="prismatic">
    <parent link="drawer_0.508_0.263_0.629_object_2_corpus"/>
    <child link="drawer_0.508_0.263_0.629_object_2_drawer_0_0"/>
    <origin xyz="0.0 -0.29420748274882913 0.12101200350054706" rpy="0.0 -0.0 0.0"/>
    <axis xyz="0 -1 0"/>
    <limit effort="1000.0" velocity="1.0" lower="0.0" upper="0.49281612205310327"/>
  </joint>
  <joint name="drawer_0.508_0.263_0.629_object_2_origin_joint" type="fixed">
    <parent link="drawer_0.508_0.263_0.629_object_2"/>
    <child link="drawer_0.508_0.263_0.629_object_2_corpus"/>
    <origin xyz="0.0 0.0 0.0" rpy="0.0 -0.0 0.0"/>
  </joint>
  <joint name="drawer_0.547_0.221_0.627_object_1_world_fixed_joint" type="fixed">
    <parent link="world"/>
    <child link="drawer_0.547_0.221_0.627_object_1"/>
    <origin xyz="0.5272662835619217 0.0 0.0" rpy="0.0 -0.0 0.0"/>
  </joint>
  <joint name="drawer_0.547_0.221_0.627_object_1_corpus_to_drawer_0_0" type="prismatic">
    <parent link="drawer_0.547_0.221_0.627_object_1_corpus"/>
    <child link="drawer_0.547_0.221_0.627_object_1_drawer_0_0"/>
    <origin xyz="0.0 -0.29420748274882913 0.12101200350054706" rpy="0.0 -0.0 0.0"/>
    <axis xyz="0 -1 0"/>
    <limit effort="1000.0" velocity="1.0" lower="0.0" upper="0.49281612205310327"/>
  </joint>
  <joint name="drawer_0.547_0.221_0.627_object_1_origin_joint" type="fixed">
    <parent link="drawer_0.547_0.221_0.627_object_1"/>
    <child link="drawer_0.547_0.221_0.627_object_1_corpus"/>
    <origin xyz="0.0 0.0 0.0" rpy="0.0 -0.0 0.0"/>
  </joint>
  <joint name="lower_left_cabinet_0.467_0.629_0.013_object_3_world_fixed_joint" type="fixed">
    <parent link="world"/>
    <child link="lower_left_cabinet_0.467_0.629_0.013_object_3"/>
    <origin xyz="0.0 0.0 -0.6331202053881628" rpy="0.0 -0.0 0.0"/>
  </joint>
  <joint name="lower_left_cabinet_0.467_0.629_0.013_object_3_corpus_to_door_0_0" type="revolute">
    <parent link="lower_left_cabinet_0.467_0.629_0.013_object_3_corpus"/>
    <child link="lower_left_cabinet_0.467_0.629_0.013_object_3_door_0_0"/>
    <origin xyz="-0.26163314178096087 -0.31420748274882915 0.3165601026940814" rpy="0.0 -0.0 0.0"/>
    <axis xyz="0 0 -1"/>
    <limit effort="1000.0" velocity="0.1" lower="0.0" upper="1.5707963267948966"/>
  </joint>
  <joint name="lower_left_cabinet_0.467_0.629_0.013_object_3_origin_joint" type="fixed">
    <parent link="lower_left_cabinet_0.467_0.629_0.013_object_3"/>
    <child link="lower_left_cabinet_0.467_0.629_0.013_object_3_corpus"/>
    <origin xyz="0.0 0.0 0.0" rpy="0.0 -0.0 0.0"/>
  </joint>
  <joint name="lower_right_cabinet_0.483_0.637_0.021_object_4_world_fixed_joint" type="fixed">
    <parent link="world"/>
    <child link="lower_right_cabinet_0.483_0.637_0.021_object_4"/>
    <origin xyz="0.5272662835619217 0.0 -0.6331202053881628" rpy="0.0 -0.0 0.0"/>
  </joint>
  <joint name="lower_right_cabinet_0.483_0.637_0.021_object_4_corpus_to_door_0_0" type="revolute">
    <parent link="lower_right_cabinet_0.483_0.637_0.021_object_4_corpus"/>
    <child link="lower_right_cabinet_0.483_0.637_0.021_object_4_door_0_0"/>
    <origin xyz="0.26163314178096087 -0.31420748274882915 0.3165601026940814" rpy="0.0 -0.0 0.0"/>
    <axis xyz="0 0 1"/>
    <limit effort="1000.0" velocity="0.1" lower="0.0" upper="1.5707963267948966"/>
  </joint>
  <joint name="lower_right_cabinet_0.483_0.637_0.021_object_4_origin_joint" type="fixed">
    <parent link="lower_right_cabinet_0.483_0.637_0.021_object_4"/>
    <child link="lower_right_cabinet_0.483_0.637_0.021_object_4_corpus"/>
    <origin xyz="0.0 0.0 0.0" rpy="0.0 -0.0 0.0"/>
  </joint>
</robot>
